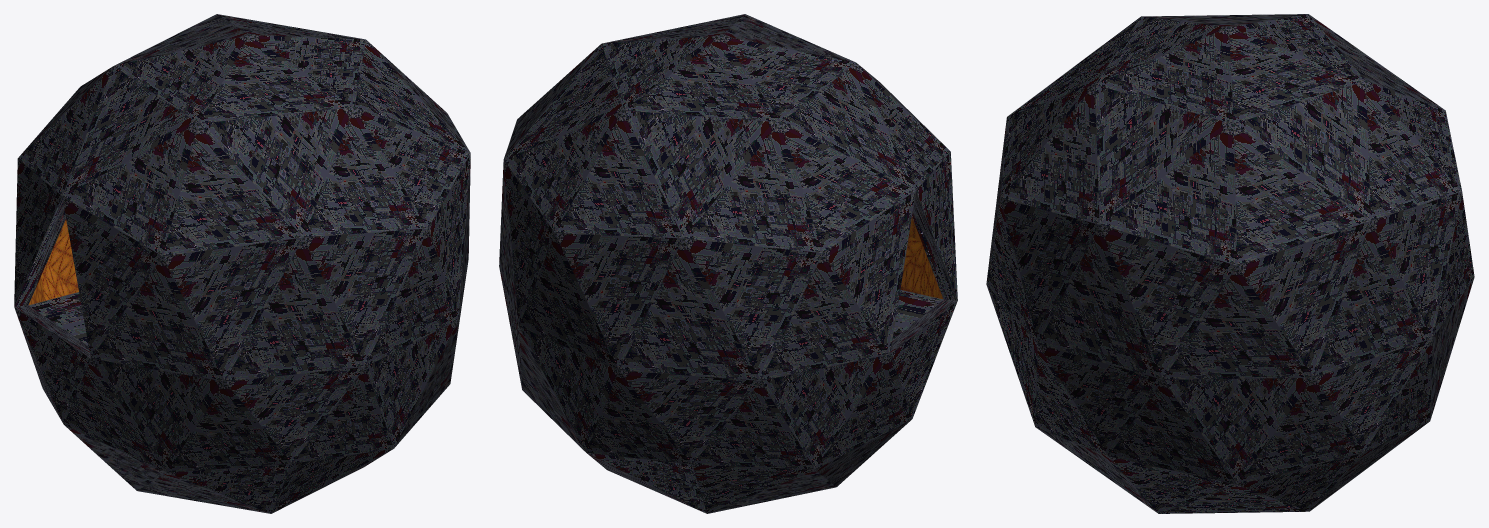
The picture shows the model from 3 angles, left to right: view 1: azimuth 30°, elevation 25°; view 2: azimuth 150°, elevation 25°; view 3: azimuth 270°, elevation 25°; orthographic projection. The views are drawn at different scales.
Visible parts, largest first — view 1: Icosphere; view 2: Icosphere; view 3: Icosphere.
Part boxes in pixels (left/top/right/bottom): Icosphere: left=14, top=14, right=470, bottom=513; Icosphere: left=499, top=14, right=957, bottom=513; Icosphere: left=986, top=14, right=1474, bottom=513.
Size of the model in its own units: 49.75 by 54 by 49.91.
Materials: 1 (1 with a texture image).
